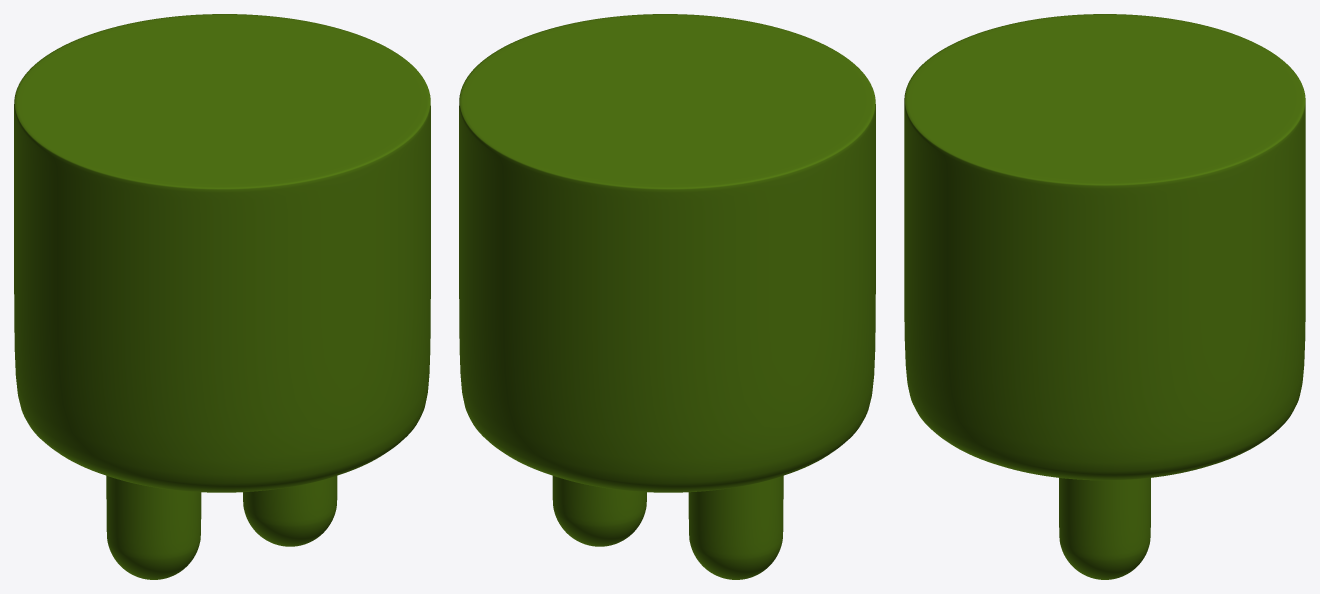
The model's file is android_body.obj.
3 views of the same model, side by side, from view 1: azimuth 30°, elevation 25°; view 2: azimuth 150°, elevation 25°; view 3: azimuth 270°, elevation 25° (orthographic). The views are drawn at different scales.
Parts seen in each view (by area): view 1: telo_Cylinder, noha_prava_Sphere.002, noha_leva_Sphere.001; view 2: telo_Cylinder, noha_prava_Sphere.002, noha_leva_Sphere.001; view 3: telo_Cylinder, noha_leva_Sphere.001.
Part boxes in pixels (<box>): telo_Cylinder: <box>14,14,430,492</box>; noha_prava_Sphere.002: <box>106,475,201,579</box>; noha_leva_Sphere.001: <box>243,476,337,546</box>; telo_Cylinder: <box>459,14,875,492</box>; noha_prava_Sphere.002: <box>688,475,783,579</box>; noha_leva_Sphere.001: <box>552,476,646,546</box>; telo_Cylinder: <box>904,14,1305,480</box>; noha_leva_Sphere.001: <box>1059,478,1150,579</box>.
Size of the model in its own units: 1.97 by 2.38 by 1.95.
